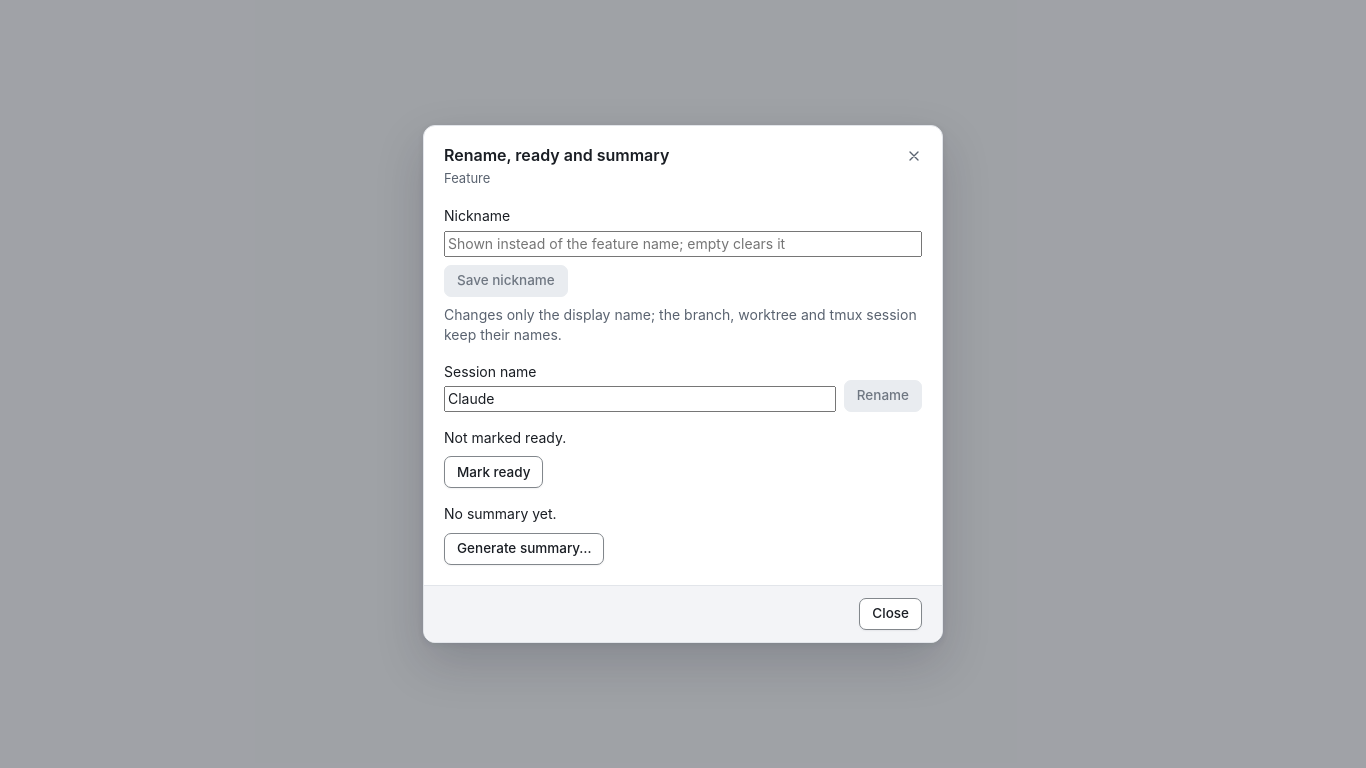
Test: shows a refused stale rename instead of retargeting
This screenshot has width=1366, height=768.
Replace the text in the field named "Name of session Claude" with "Main" at coordinates (640, 399), box [444, 386, 836, 412]
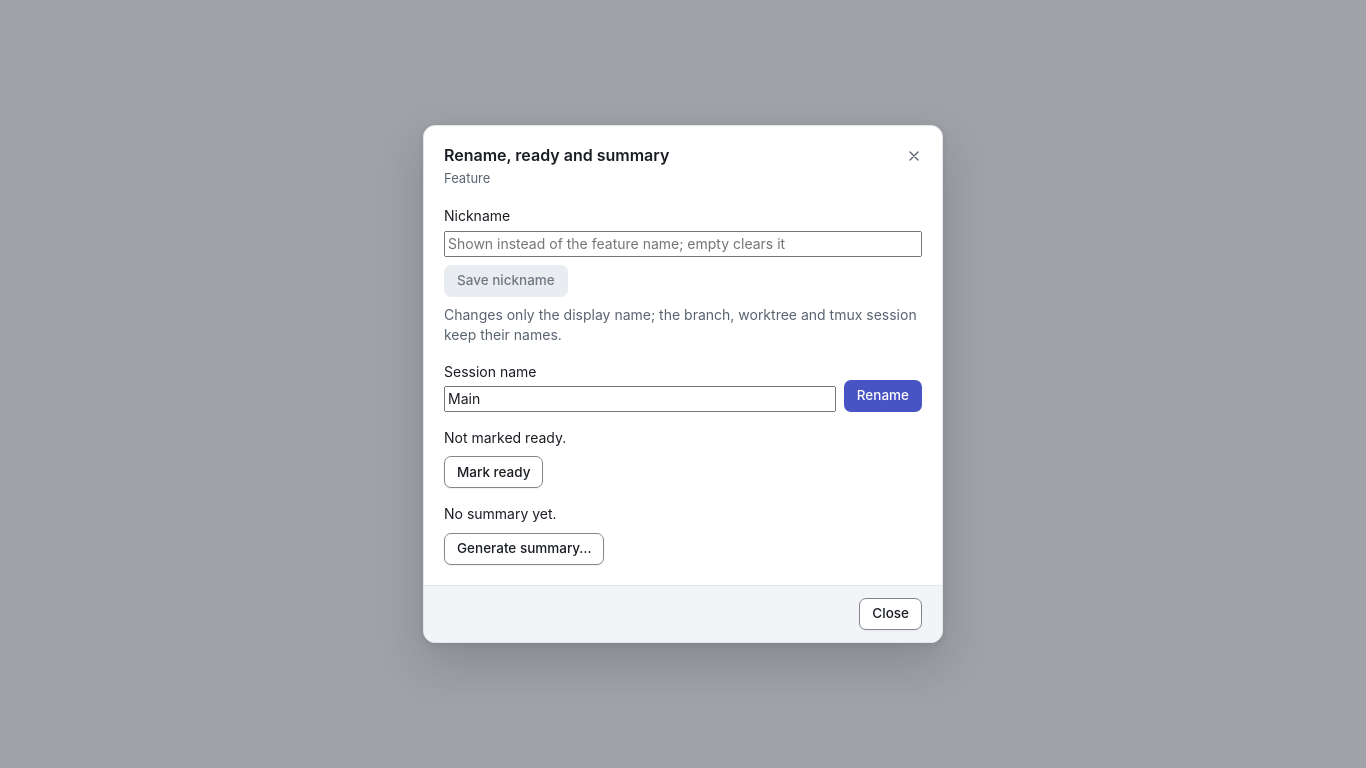
Click the button with aria-label "Rename session Claude" at coordinates (883, 396), box [844, 380, 922, 412]
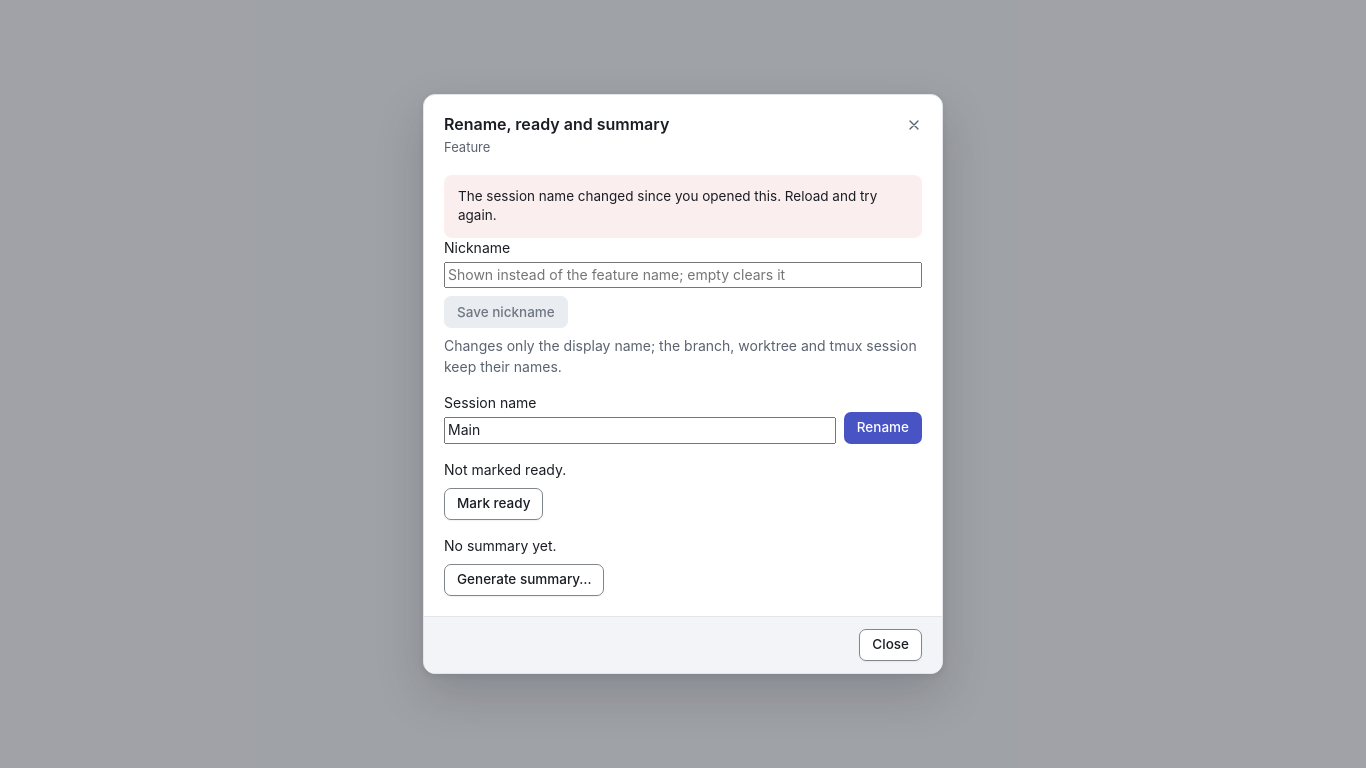
expect the message shows "changed since you opened this": met, box [458, 188, 877, 223]
